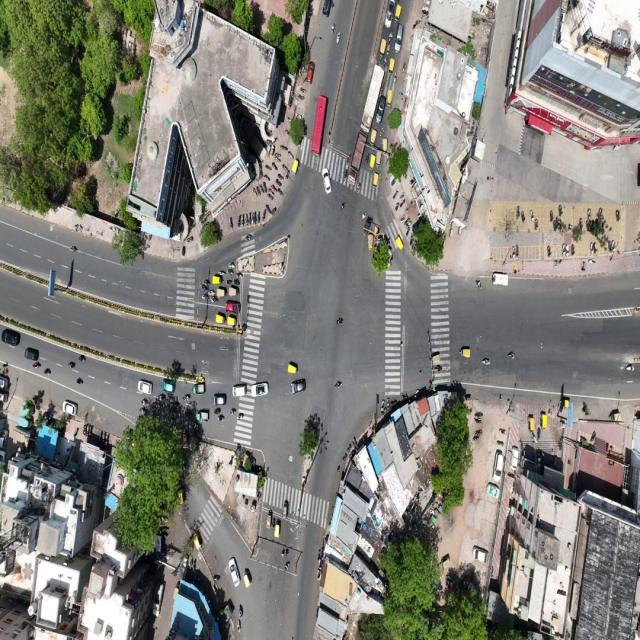3W: (286, 358, 302, 378), (242, 565, 255, 588), (190, 532, 203, 553), (264, 504, 273, 534), (394, 230, 404, 256), (378, 37, 388, 63), (526, 413, 536, 438), (192, 381, 208, 396), (290, 157, 302, 176), (459, 345, 473, 361), (362, 216, 373, 236), (196, 409, 210, 424), (226, 313, 238, 329), (395, 2, 403, 23), (215, 310, 225, 326), (366, 234, 374, 254), (370, 127, 377, 149), (274, 517, 280, 541), (375, 149, 382, 169), (541, 412, 549, 429), (388, 57, 394, 79), (213, 274, 223, 287), (370, 151, 375, 175), (216, 288, 227, 298), (388, 88, 393, 110), (228, 288, 240, 297), (383, 136, 389, 154)
Bus: (311, 92, 328, 161)
Cars: (471, 540, 490, 568), (1, 325, 22, 350), (227, 553, 240, 590), (492, 452, 505, 484), (320, 165, 333, 196), (374, 94, 386, 126), (135, 380, 157, 396), (394, 24, 405, 56), (290, 378, 307, 398), (225, 297, 242, 315), (62, 400, 78, 419), (490, 273, 510, 288), (305, 60, 317, 85), (251, 382, 270, 397), (385, 0, 394, 31), (159, 377, 175, 393), (231, 383, 248, 398), (24, 345, 39, 362), (211, 393, 227, 406)
M2W: (333, 372, 346, 398), (280, 497, 292, 523), (470, 278, 484, 294), (335, 312, 346, 332), (282, 560, 294, 577), (625, 358, 635, 378), (480, 356, 492, 372), (234, 602, 246, 618), (234, 620, 245, 636), (373, 171, 380, 193), (390, 186, 399, 202), (75, 351, 86, 364), (506, 347, 516, 361), (68, 244, 79, 255), (279, 141, 290, 152), (42, 366, 52, 378), (545, 243, 552, 260), (242, 233, 255, 242), (343, 150, 352, 163), (228, 213, 234, 232), (356, 178, 362, 196), (378, 126, 387, 138), (251, 185, 258, 200), (364, 151, 370, 168), (498, 426, 508, 436), (495, 438, 505, 448), (74, 376, 84, 386), (66, 360, 76, 370), (233, 277, 243, 287), (182, 391, 191, 402), (261, 172, 272, 181), (296, 92, 305, 103), (510, 244, 516, 260), (561, 241, 567, 257), (392, 201, 400, 213), (515, 205, 521, 220), (271, 514, 276, 532), (262, 209, 268, 224), (336, 30, 342, 45), (388, 30, 394, 45), (401, 62, 407, 77), (237, 412, 245, 423), (229, 405, 237, 416), (297, 86, 308, 94), (549, 208, 554, 225), (528, 208, 534, 222), (578, 215, 584, 229), (615, 208, 621, 222), (280, 546, 286, 560), (278, 186, 284, 200), (329, 22, 335, 36), (343, 168, 349, 182), (405, 224, 411, 238), (32, 361, 41, 370), (227, 260, 236, 269), (589, 240, 594, 256), (200, 294, 210, 302), (204, 276, 212, 286), (398, 190, 406, 200), (210, 296, 218, 305), (224, 278, 233, 286), (340, 198, 346, 210), (380, 81, 386, 93), (570, 242, 575, 256), (474, 410, 484, 417), (474, 429, 484, 436), (212, 407, 222, 414), (286, 544, 291, 558), (275, 154, 282, 164), (269, 188, 274, 202), (400, 211, 407, 221), (607, 238, 611, 255), (248, 210, 252, 227), (259, 183, 265, 194), (558, 204, 563, 217), (361, 210, 366, 223), (393, 72, 398, 85), (208, 287, 215, 296), (218, 269, 227, 276), (235, 271, 244, 278), (278, 172, 285, 181), (534, 217, 538, 232), (586, 207, 591, 219), (474, 418, 484, 424), (472, 436, 482, 442), (538, 426, 542, 440), (199, 283, 207, 290), (241, 213, 245, 227), (228, 269, 234, 278), (516, 245, 520, 258), (384, 56, 388, 69), (386, 44, 391, 54), (217, 415, 224, 422), (257, 212, 261, 224)
Truck: (357, 64, 390, 134), (347, 135, 368, 192)
